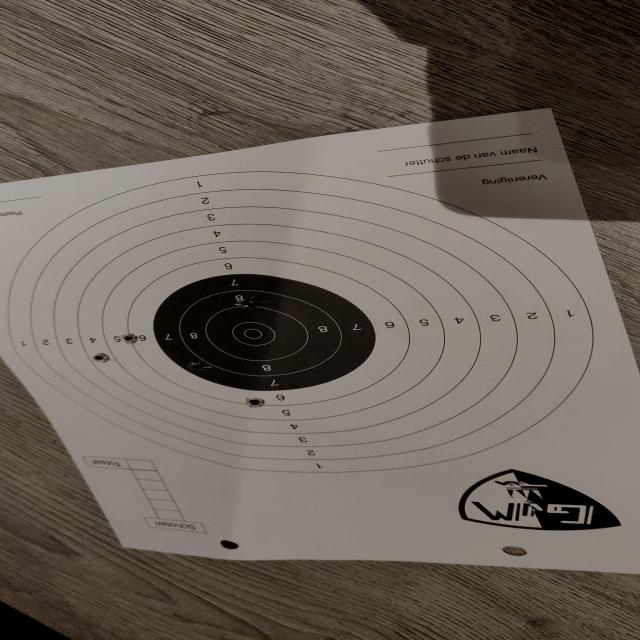4: (89, 352, 111, 363)
6: (119, 333, 141, 345), (244, 398, 265, 408)
7: (184, 360, 210, 372)
9: (232, 295, 264, 311)
Target: (0, 170, 593, 474)
black_contour: (152, 273, 375, 391)
